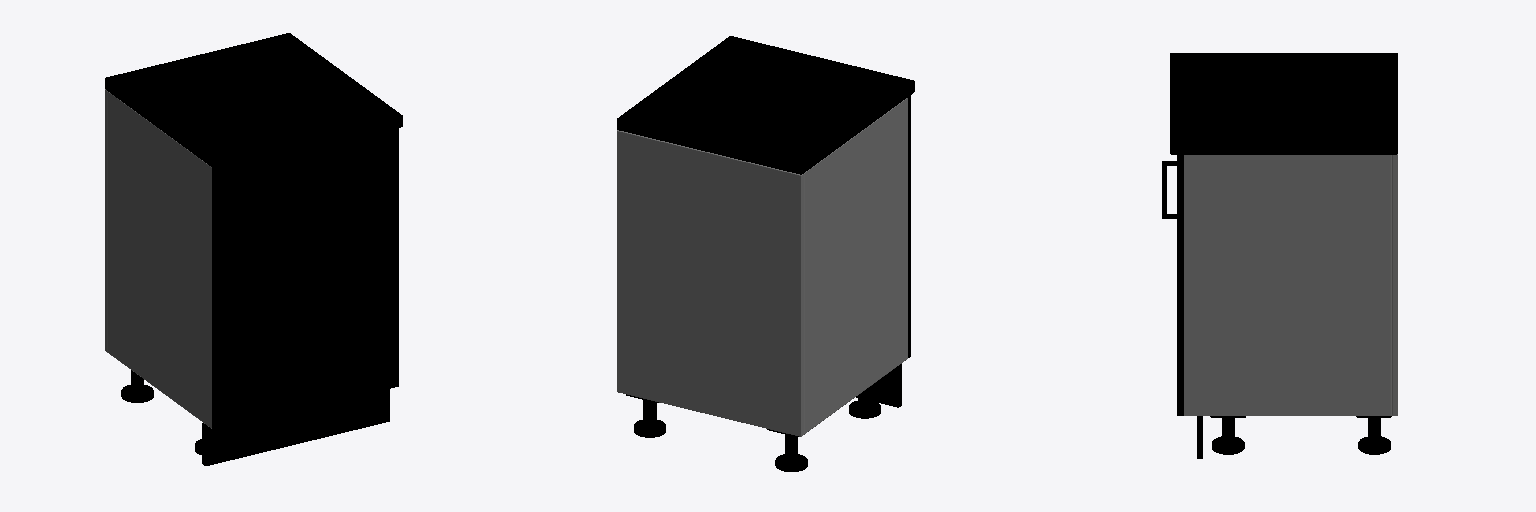
The model's file is cabinet04BaseLeft.obj.
3 views of the same model, side by side, from view 1: azimuth 30°, elevation 25°; view 2: azimuth 150°, elevation 25°; view 3: azimuth 270°, elevation 25° (orthographic).
Visible parts, largest first — view 1: CABINET04BaseLeft doormesh, CABINET04BaseLeft carcasemesh, CABINET04BaseLeft benchtopmesh, kickmesh CABINET04BaseLeft, CABINET04BaseLeft standmesh; view 2: CABINET04BaseLeft carcasemesh, CABINET04BaseLeft benchtopmesh, CABINET04BaseLeft standmesh, kickmesh CABINET04BaseLeft, CABINET04BaseLeft doormesh; view 3: CABINET04BaseLeft carcasemesh, CABINET04BaseLeft benchtopmesh, CABINET04BaseLeft doormesh, CABINET04BaseLeft standmesh.
Boxes of the visible parts, x1=… form: CABINET04BaseLeft doormesh: x1=212, y1=128, x2=398, y2=430; CABINET04BaseLeft carcasemesh: x1=105, y1=89, x2=211, y2=428; CABINET04BaseLeft benchtopmesh: x1=105, y1=33, x2=402, y2=171; kickmesh CABINET04BaseLeft: x1=202, y1=389, x2=389, y2=465; CABINET04BaseLeft standmesh: x1=121, y1=370, x2=201, y2=454; CABINET04BaseLeft carcasemesh: x1=617, y1=98, x2=907, y2=436; CABINET04BaseLeft benchtopmesh: x1=617, y1=36, x2=914, y2=174; CABINET04BaseLeft standmesh: x1=634, y1=386, x2=880, y2=471; kickmesh CABINET04BaseLeft: x1=856, y1=364, x2=901, y2=407; CABINET04BaseLeft doormesh: x1=908, y1=95, x2=910, y2=357; CABINET04BaseLeft carcasemesh: x1=1184, y1=154, x2=1397, y2=415; CABINET04BaseLeft benchtopmesh: x1=1170, y1=53, x2=1397, y2=154; CABINET04BaseLeft doormesh: x1=1177, y1=155, x2=1183, y2=415; CABINET04BaseLeft standmesh: x1=1212, y1=418, x2=1390, y2=454.
Bounding box in the file's own units: 55.97 × 91.48 × 62.13.